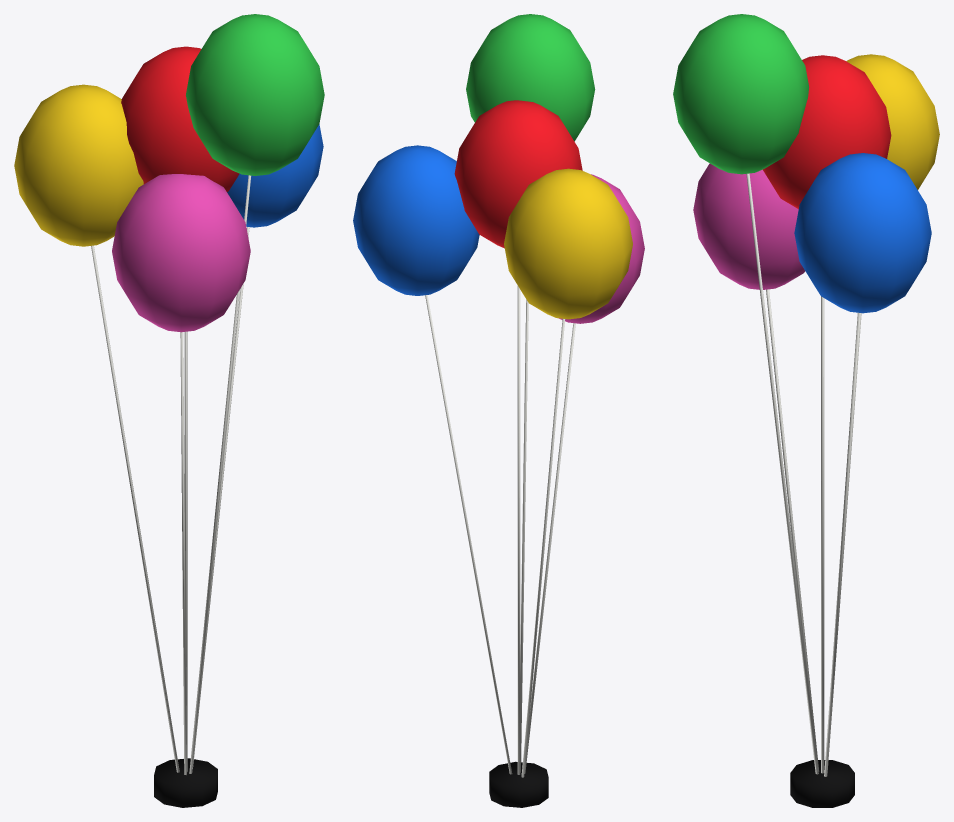
The model's file is balloons.glb.
3 renders of one model, left to right at view 1: azimuth 30°, elevation 25°; view 2: azimuth 150°, elevation 25°; view 3: azimuth 270°, elevation 25°, orthographic. The views are drawn at different scales.
Visible parts, largest first — view 1: balloons; view 2: balloons; view 3: balloons.
Part boxes in pixels (left/top/right/bottom): balloons: left=14, top=14, right=324, bottom=807; balloons: left=353, top=14, right=644, bottom=807; balloons: left=673, top=14, right=939, bottom=807.
Size of the model in its own units: 0.81 by 2.15 by 0.66.
Materials: 1 (1 with a texture image).
